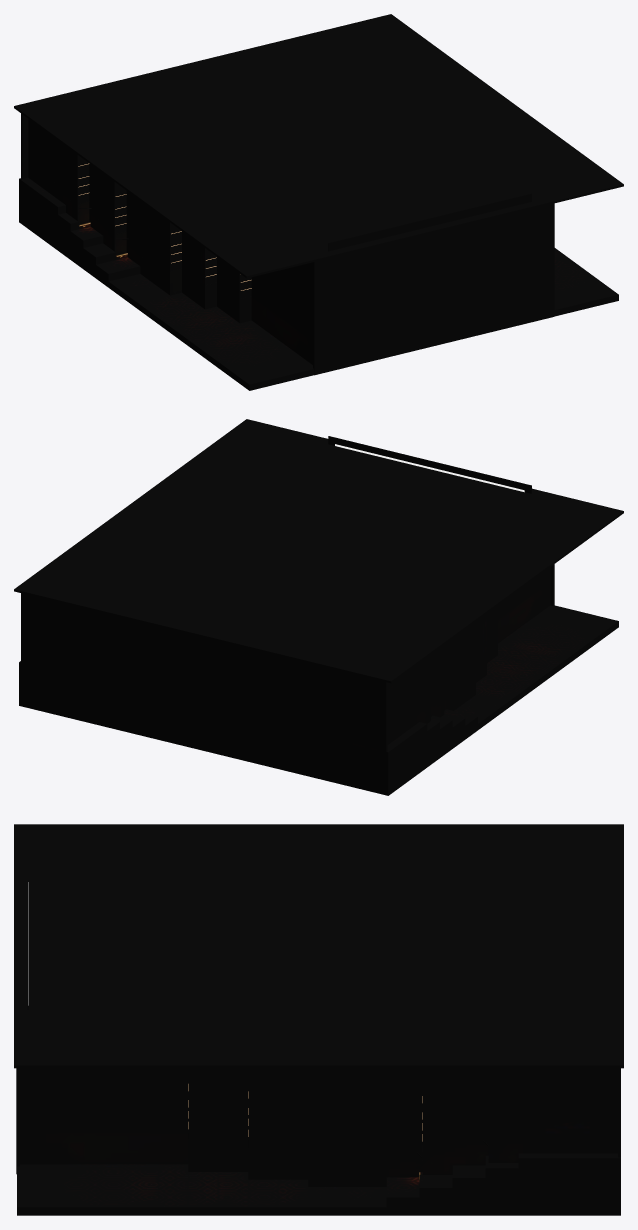
File: hall4.glb
The picture shows the model from 3 angles, top to bottom: view 1: azimuth 30°, elevation 25°; view 2: azimuth 150°, elevation 25°; view 3: azimuth 270°, elevation 25°; orthographic projection. The views are drawn at different scales.
Visible parts, largest first — view 1: bake_room, bake_walls, bake_floor; view 2: bake_room, bake_floor, bake_walls; view 3: bake_room, bake_walls, bake_floor.
Boxes of the visible parts, left/top/right/bottom form: bake_room: left=14, top=14, right=623, bottom=375; bake_walls: left=28, top=119, right=312, bottom=364; bake_floor: left=19, top=177, right=618, bottom=390; bake_room: left=14, top=419, right=623, bottom=794; bake_floor: left=19, top=605, right=618, bottom=795; bake_walls: left=387, top=567, right=550, bottom=744; bake_room: left=14, top=824, right=623, bottom=1174; bake_walls: left=20, top=1068, right=617, bottom=1186; bake_floor: left=17, top=1153, right=620, bottom=1215.
Bounding box in the file's own units: 19 × 5.99 × 20.3.
11 materials, 3 textured.
